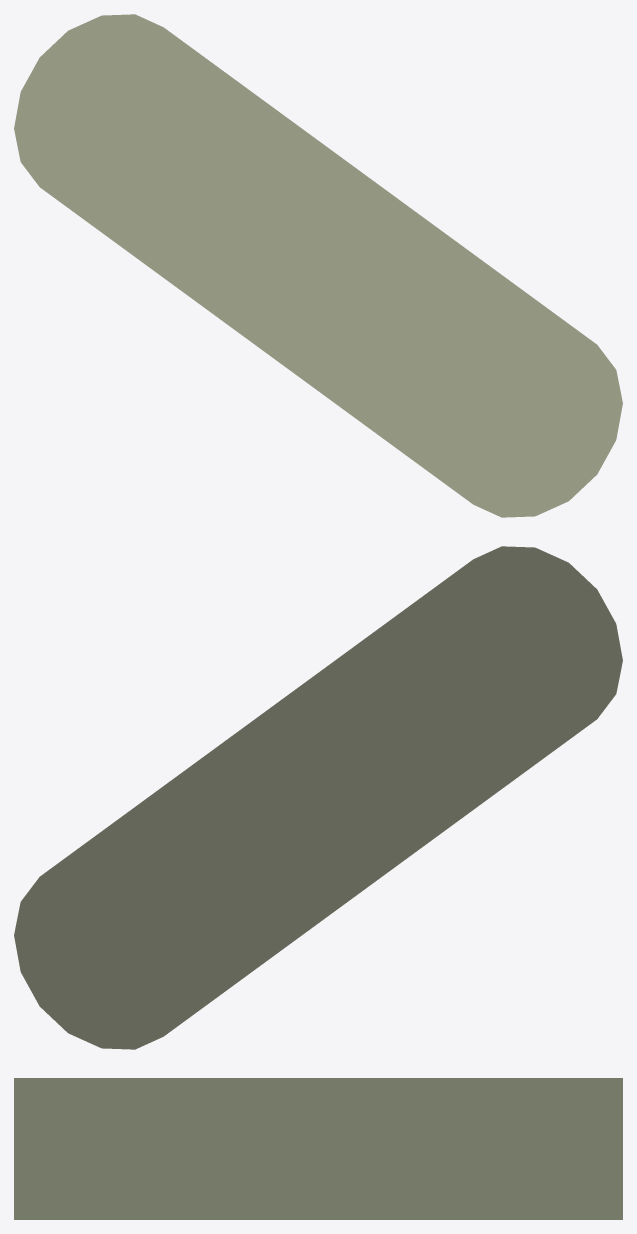
The picture shows the model from 3 angles, top to bottom: view 1: azimuth 30°, elevation 25°; view 2: azimuth 150°, elevation 25°; view 3: azimuth 270°, elevation 25°; orthographic projection. The views are drawn at different scales.
Visible parts, largest first — view 1: cylinder5-0; view 2: cylinder5-0; view 3: cylinder5-0.
Boxes of the visible parts, x1,y1,x2,y2 form: cylinder5-0: (14,14,622,517); cylinder5-0: (14,546,622,1049); cylinder5-0: (14,1078,622,1219).
Size of the model in its own units: 0.07 by 0.07 by 0.3.
